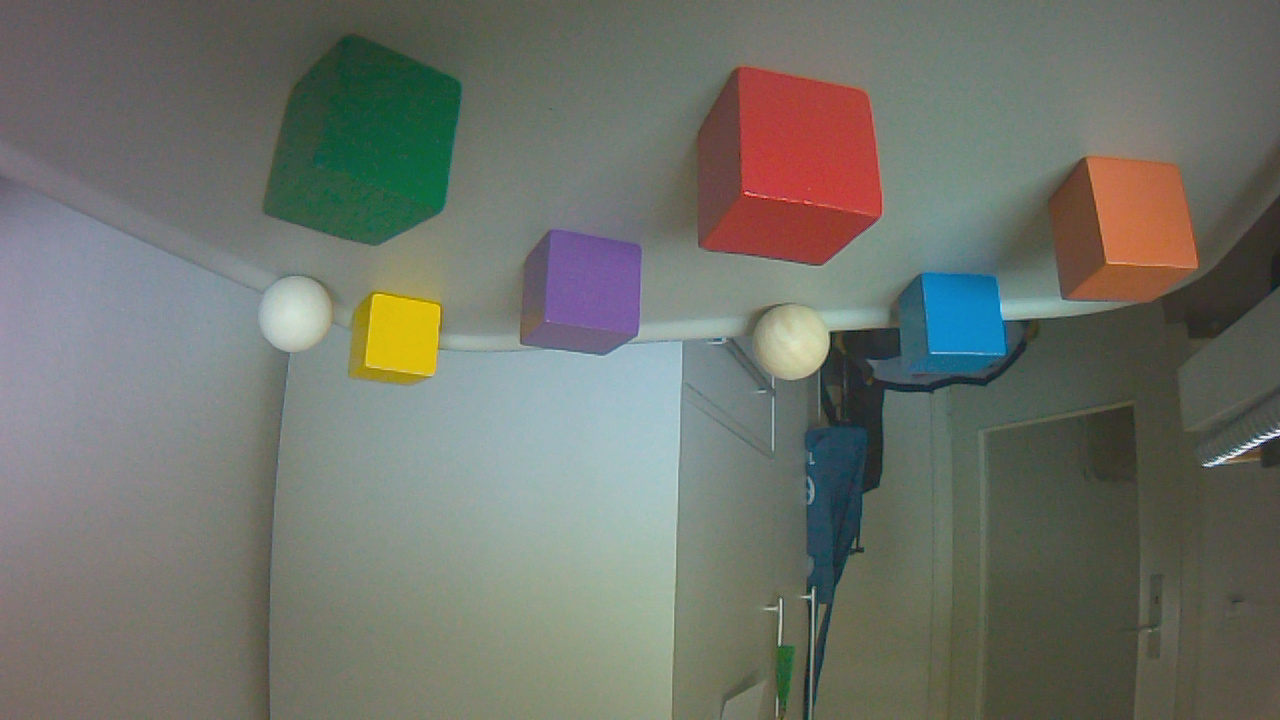ball: (754, 303, 835, 388), (259, 276, 340, 360)
cube_blue: (896, 274, 1011, 384)
cube_green: (266, 36, 469, 254)
cube_orange: (1050, 158, 1204, 311)
cube_purple: (522, 230, 650, 364)
cube_red: (696, 68, 892, 277)
cube_yellow: (350, 295, 448, 393)
